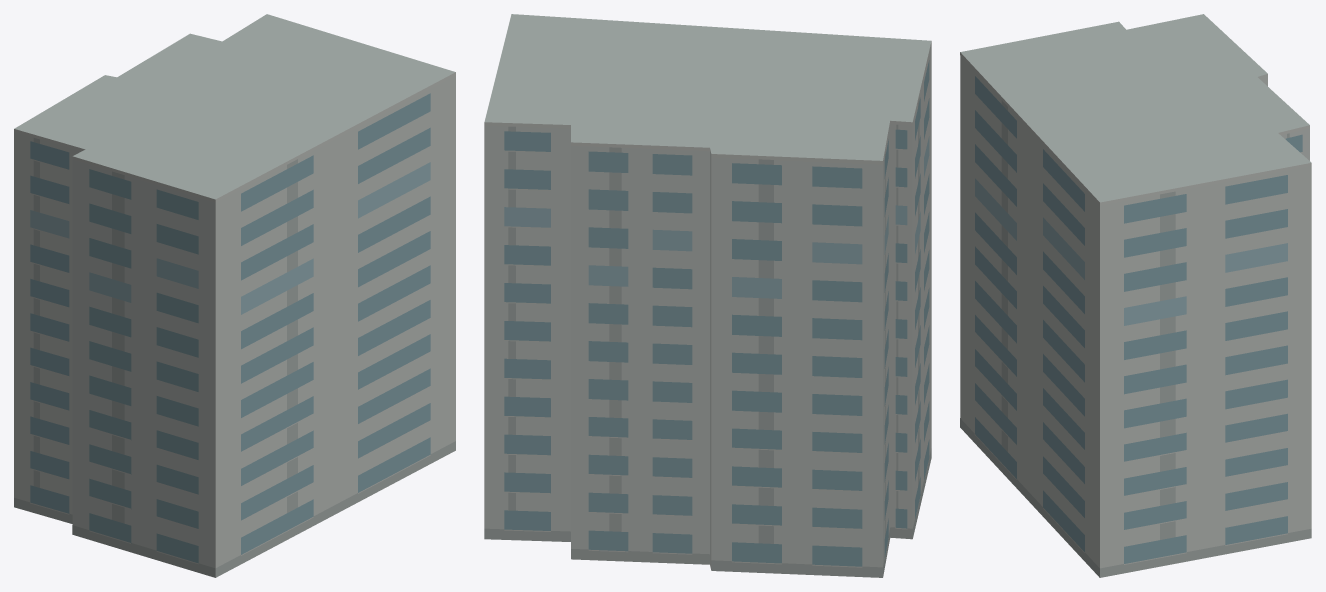
Rendered from residential-227cbf10-2ea2-40bf-b55e-0ae3fb7abcd1.glb.
3 views of the same model, side by side, from view 1: azimuth 30°, elevation 25°; view 2: azimuth 150°, elevation 25°; view 3: azimuth 270°, elevation 25° (orthographic). The views are drawn at different scales.
Visible parts, largest first — view 1: residential-227cbf10-2ea2-40bf-b55e-0ae3fb7abcd1.tmp; view 2: residential-227cbf10-2ea2-40bf-b55e-0ae3fb7abcd1.tmp; view 3: residential-227cbf10-2ea2-40bf-b55e-0ae3fb7abcd1.tmp.
Part boxes in pixels (x1,y1,x2,y2): residential-227cbf10-2ea2-40bf-b55e-0ae3fb7abcd1.tmp: [14, 14, 455, 577]; residential-227cbf10-2ea2-40bf-b55e-0ae3fb7abcd1.tmp: [484, 14, 931, 577]; residential-227cbf10-2ea2-40bf-b55e-0ae3fb7abcd1.tmp: [960, 14, 1311, 577].
Bounding box in the file's own units: 31.24 × 29 × 24.62.
